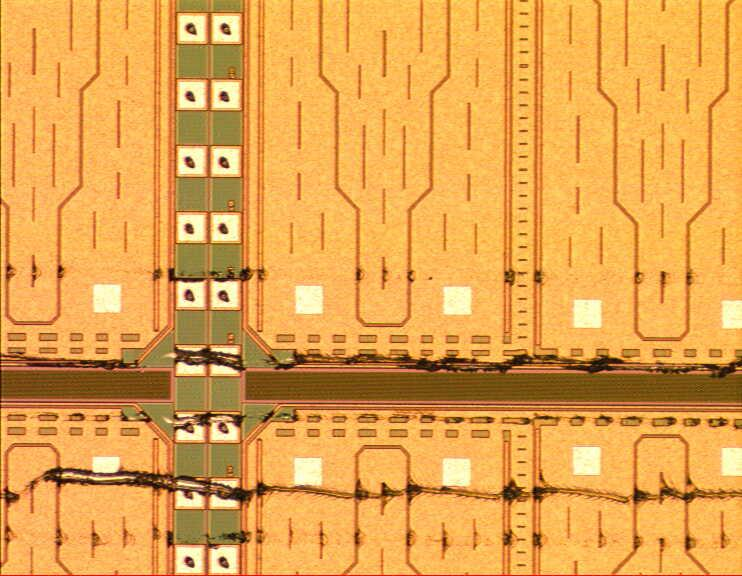SCRATCH: (1, 255, 742, 558)
